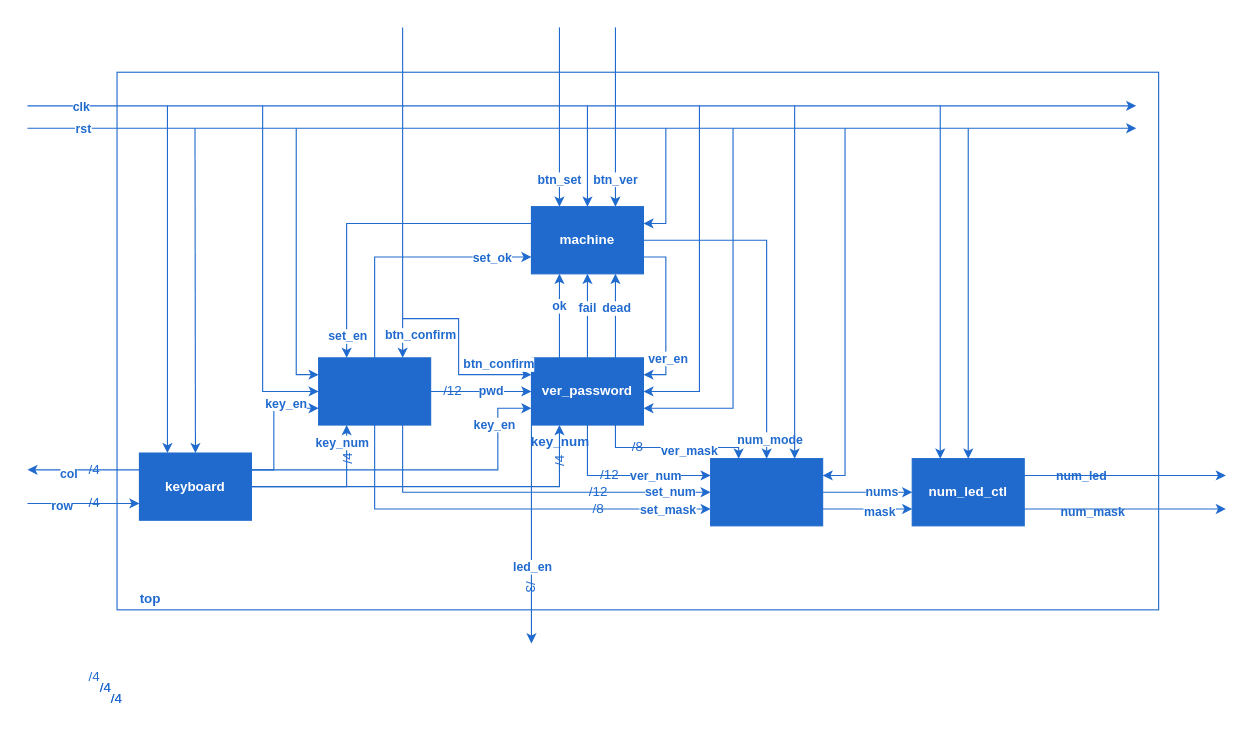
The diagram is 1254 pixels wide and 741 high, and some of its shapes have lost their labels. Here are the shapes that lost their labels. From the top down, the centre of each, then its label:
At pixel 374 391: "set_password".
At pixel 766 492: "num_switcher".
